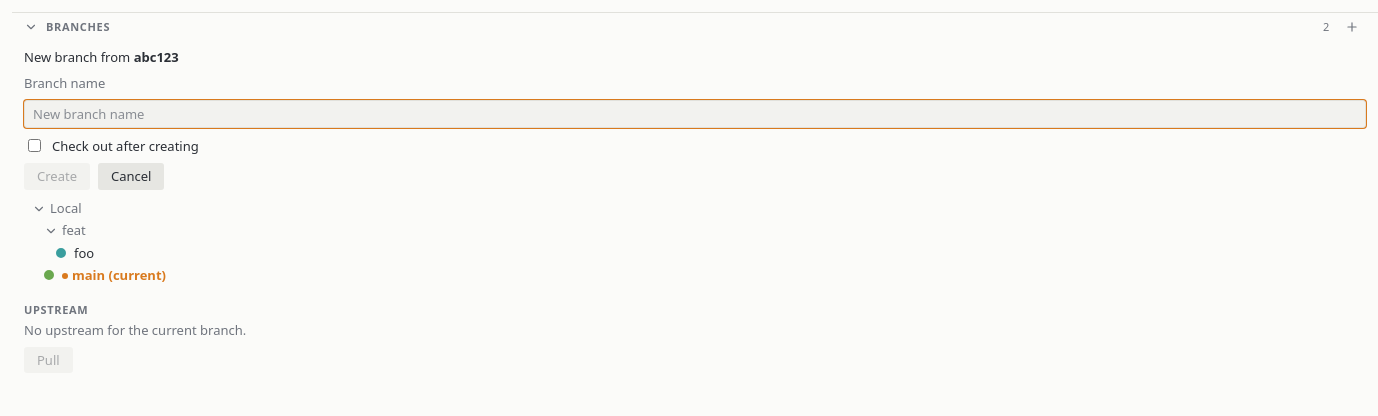
Scenario: BranchTree — local branches › clears the create-branch failure message once the name is edited again
In the field with placeholder "New branch name": (695, 114) [24,100,1366,128], type "feature"
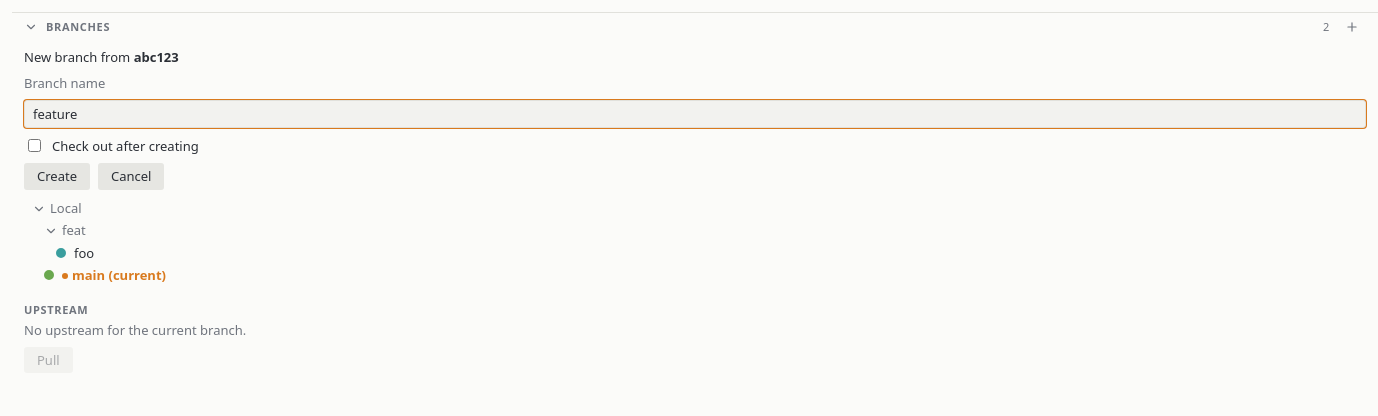
Click the button "Create": click(57, 176) [24,163,90,190]
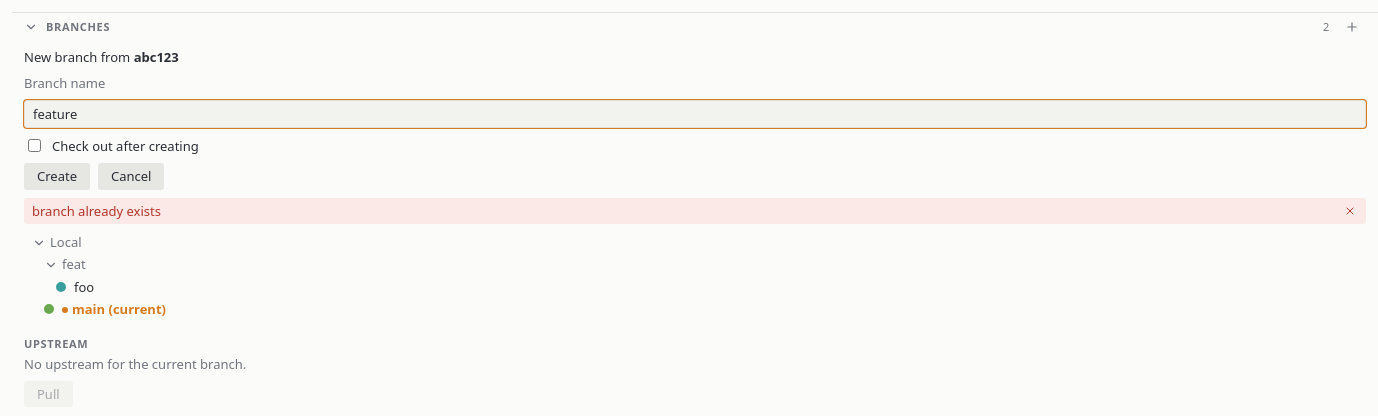
Expected: the message "branch already exists" is shown, [24,198,1366,224]
Replace the text in the field with placeholder "New branch name" with "feature-2": (695, 114) [24,100,1366,128]
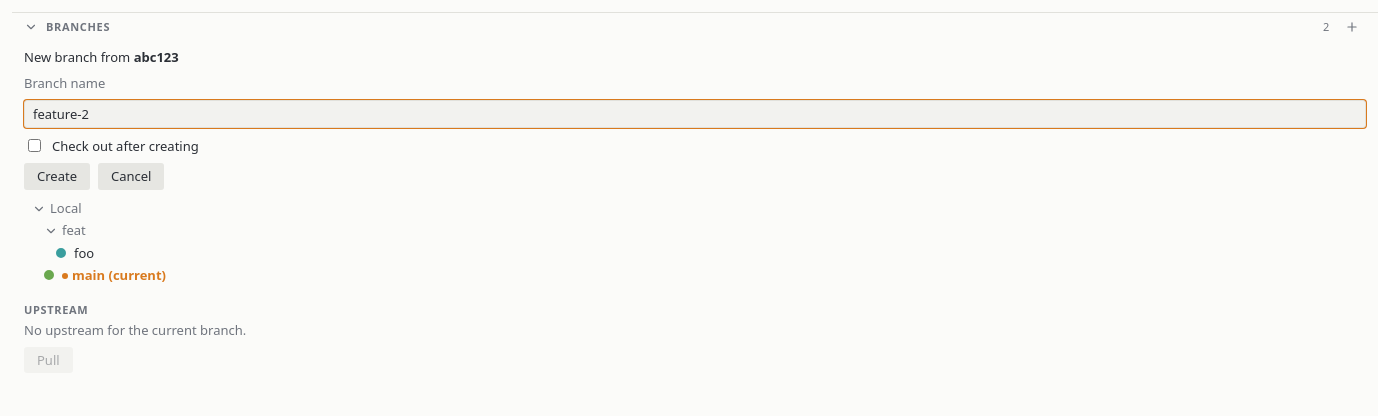
Expected: the message "branch already exists" is gone
